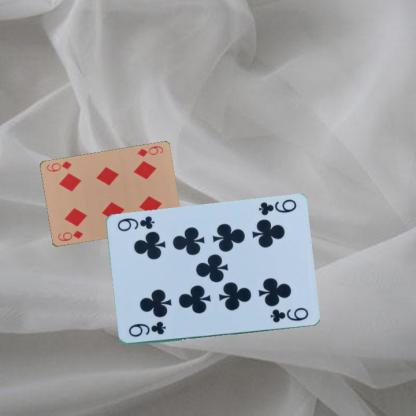6d: (55, 228, 84, 242), (135, 144, 164, 158)
9c: (256, 196, 298, 218), (125, 319, 167, 339)
